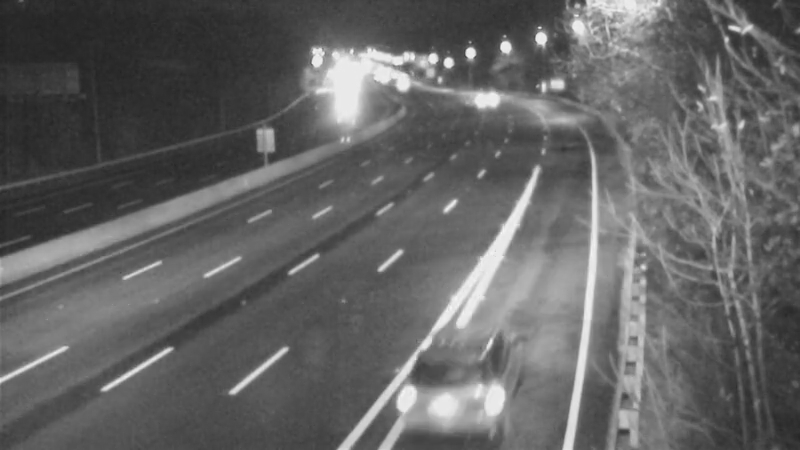vehicle: (393, 345, 503, 450), (456, 75, 506, 125), (319, 77, 369, 127)
